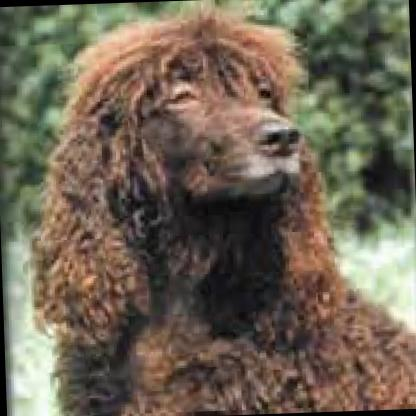Irish_water_spaniel: (19, 2, 415, 416)
